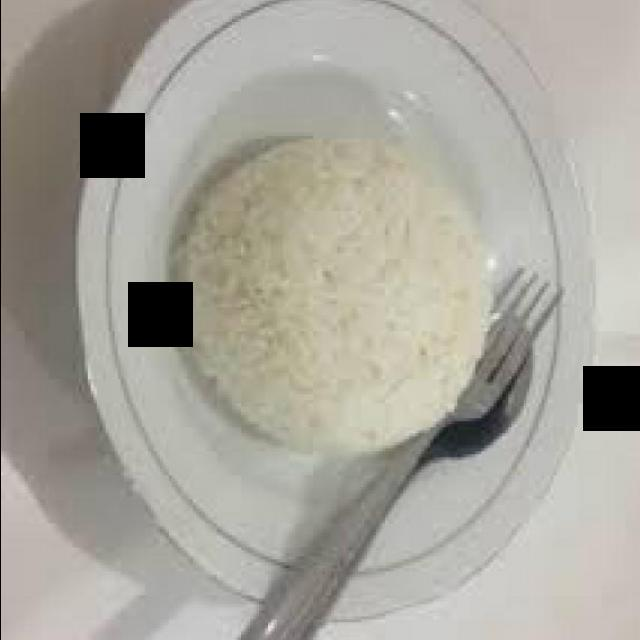rice: (168, 134, 494, 458)
